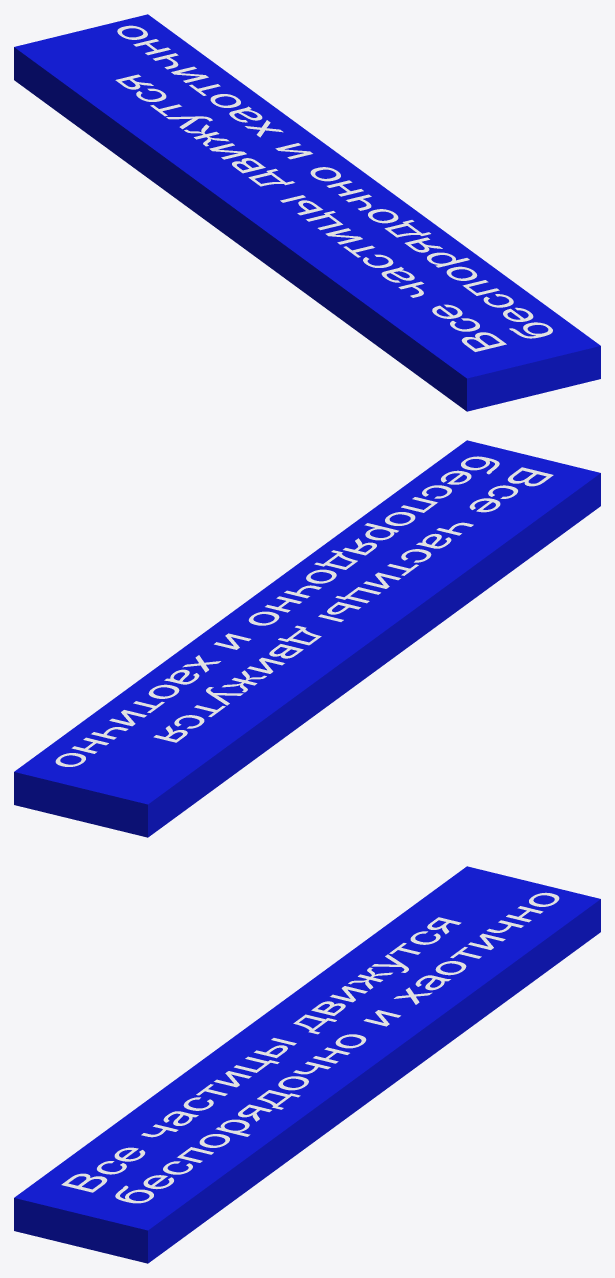
The picture shows the model from 3 angles, top to bottom: view 1: azimuth 30°, elevation 25°; view 2: azimuth 150°, elevation 25°; view 3: azimuth 330°, elevation 25°; orthographic projection.
Visible parts, largest first — view 1: Text001; view 2: Text001; view 3: Text001.
Boxes of the visible parts, box(x1,y1,x2,y2) form: Text001: box(14, 14, 600, 411); Text001: box(14, 440, 600, 837); Text001: box(14, 866, 600, 1263).
Bounding box in the file's own units: 11.52 × 3.17 × 67.44.
